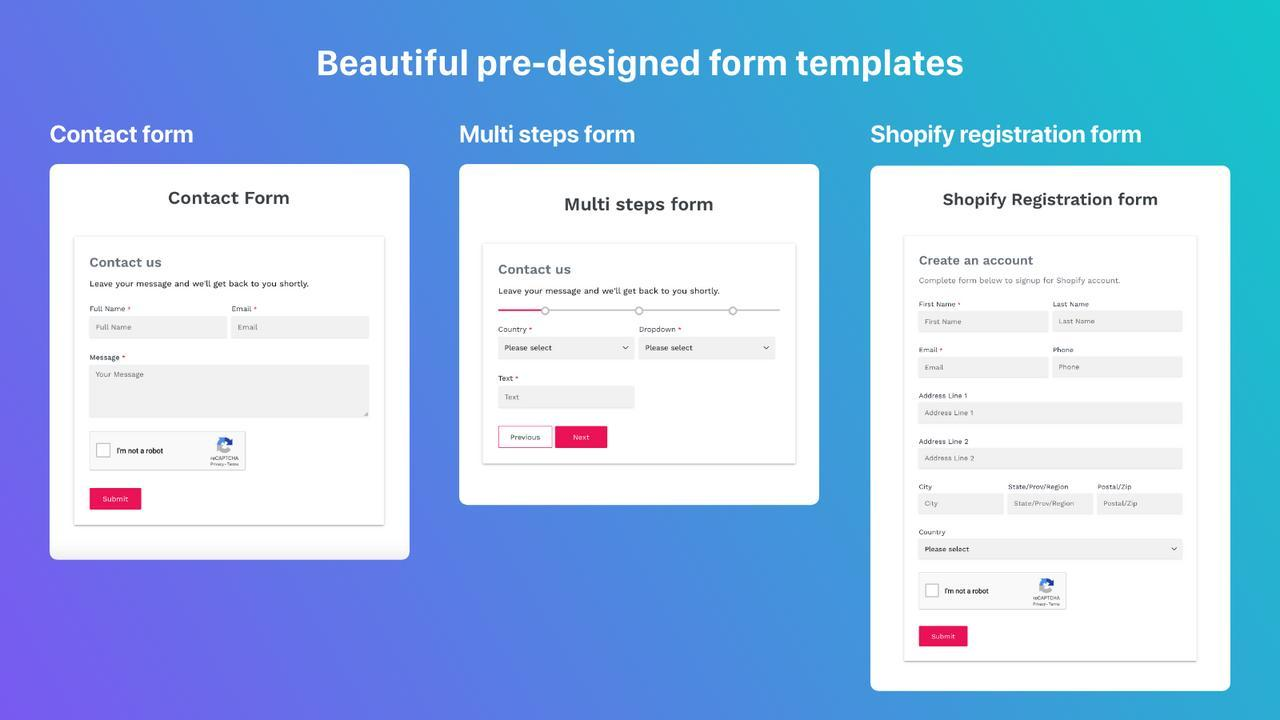button: (499, 427, 554, 450), (556, 427, 609, 450), (919, 625, 970, 648), (91, 489, 143, 511)
checkbox: (925, 583, 942, 600), (96, 443, 112, 459)
dropdown: (920, 539, 1184, 561), (641, 338, 777, 360), (500, 338, 635, 360)
input: (919, 449, 1184, 471), (920, 403, 1184, 425), (228, 316, 372, 342), (90, 316, 228, 341), (499, 387, 637, 409), (919, 358, 1050, 380), (1054, 311, 1184, 333), (1054, 357, 1184, 379), (918, 312, 1050, 333), (1008, 494, 1095, 516), (1098, 494, 1185, 516), (918, 494, 1004, 515)
label: (915, 436, 973, 448), (1007, 484, 1075, 492), (639, 324, 684, 335), (917, 300, 964, 310), (90, 352, 129, 364), (495, 324, 536, 335), (88, 304, 133, 314), (918, 392, 970, 400), (1052, 299, 1092, 308), (1094, 483, 1136, 491), (497, 374, 524, 385), (916, 529, 953, 537), (913, 483, 943, 492), (916, 347, 948, 355), (1051, 346, 1078, 355), (230, 306, 259, 314)
